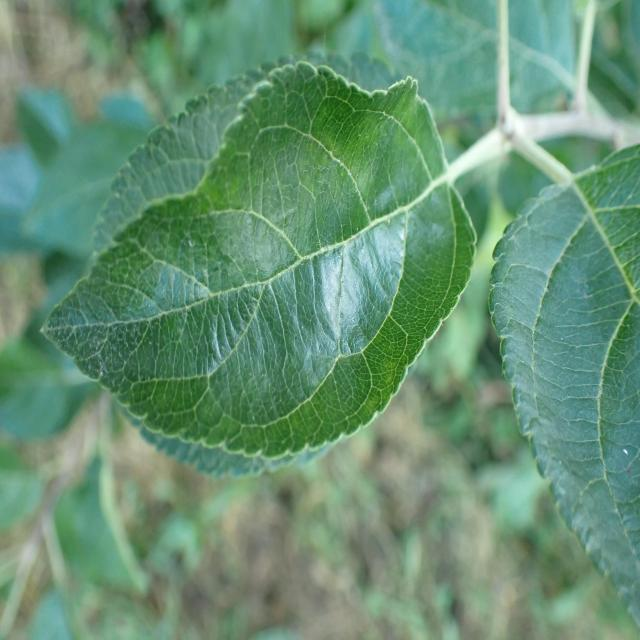healthy: (39, 57, 478, 479), (488, 142, 640, 631)
